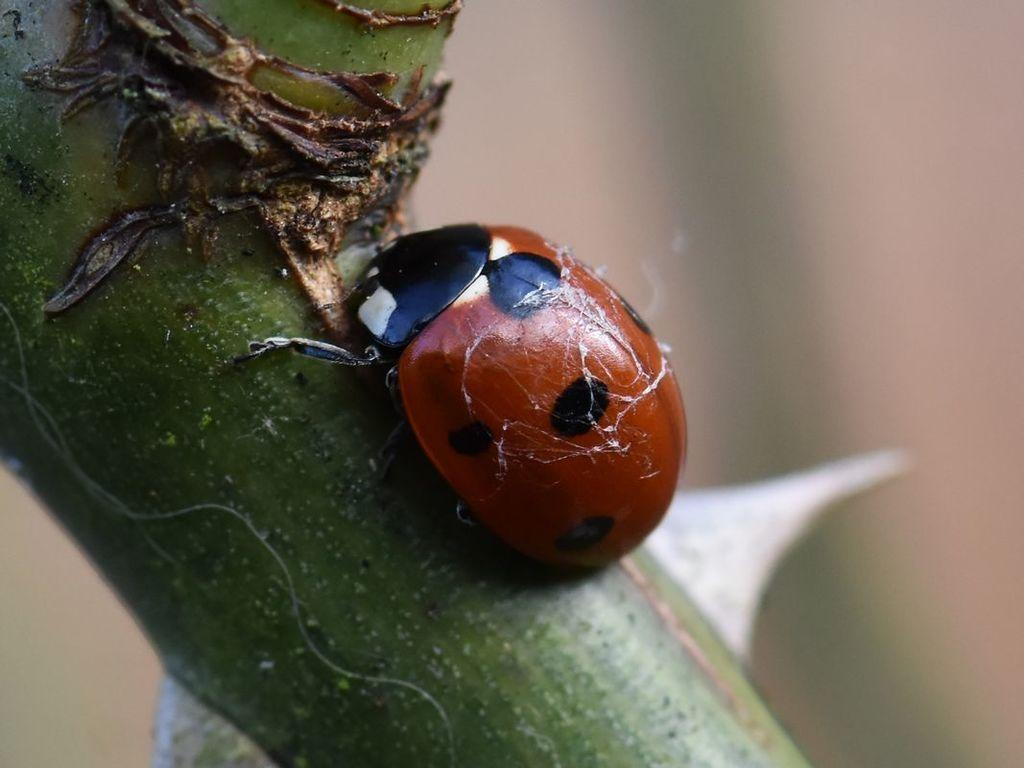ladybug: (227, 223, 697, 575)
